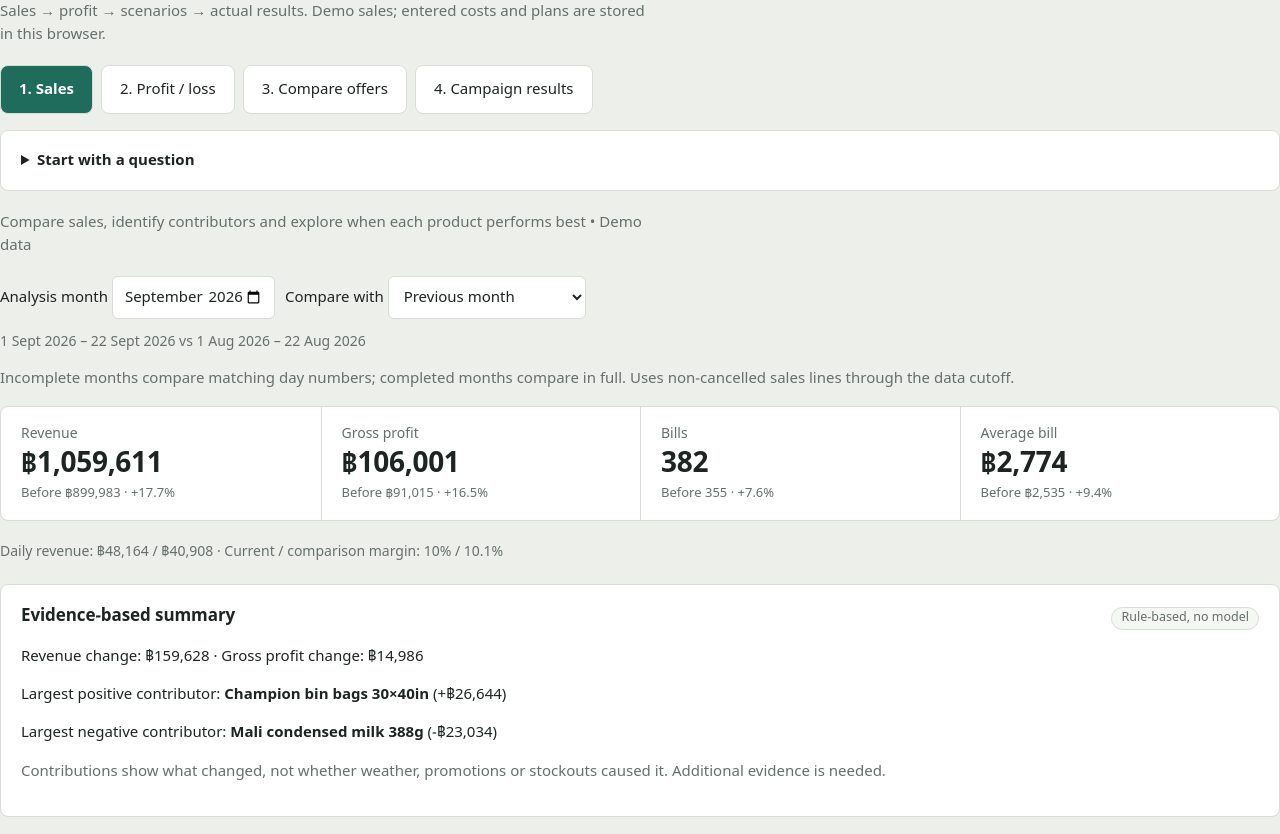
Test case: campaign validation and local persistence preserve user-entered facts
The image size is (1280, 834).
Step 1. Click the tab "4. Campaign results" → x=504, y=89, box [415,64,592,114]
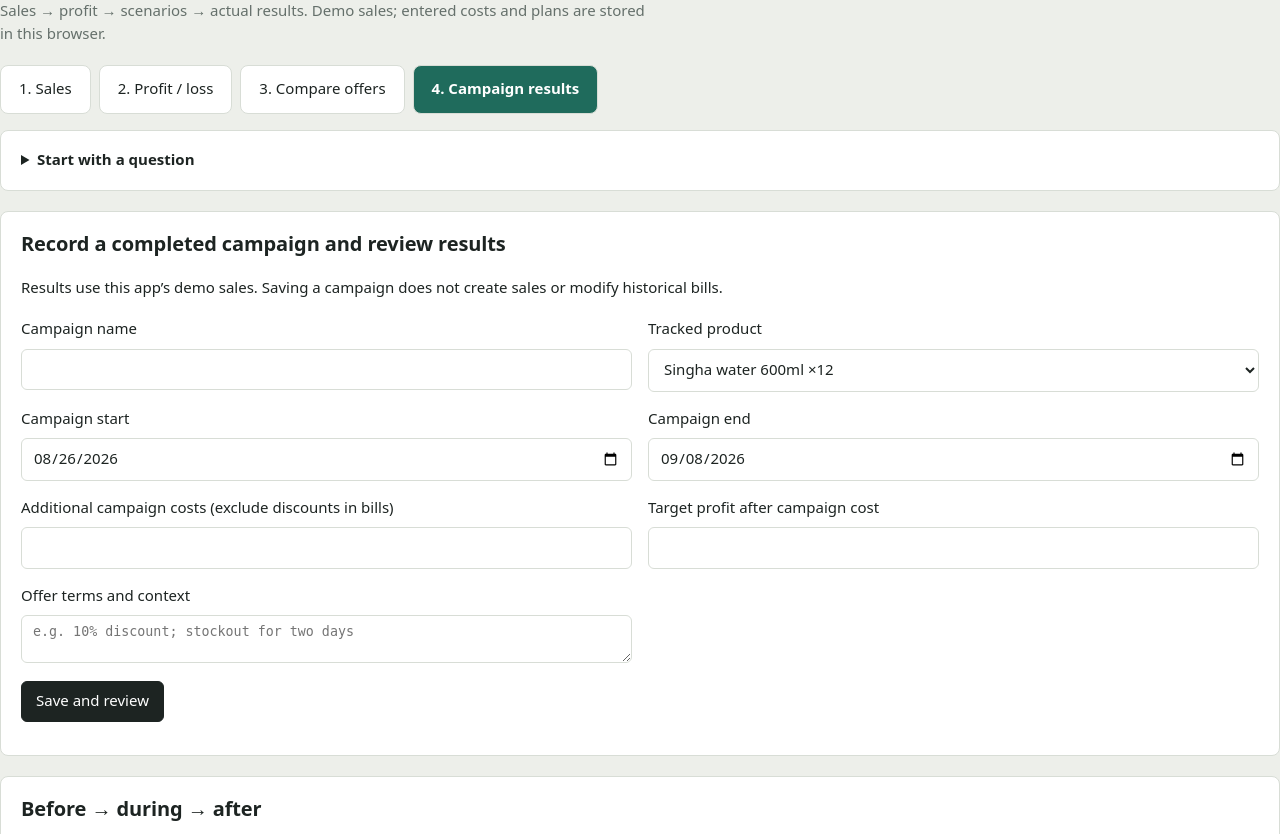
Step 2. Click the button "Save and review" → x=92, y=701, box [21,681,164,722]
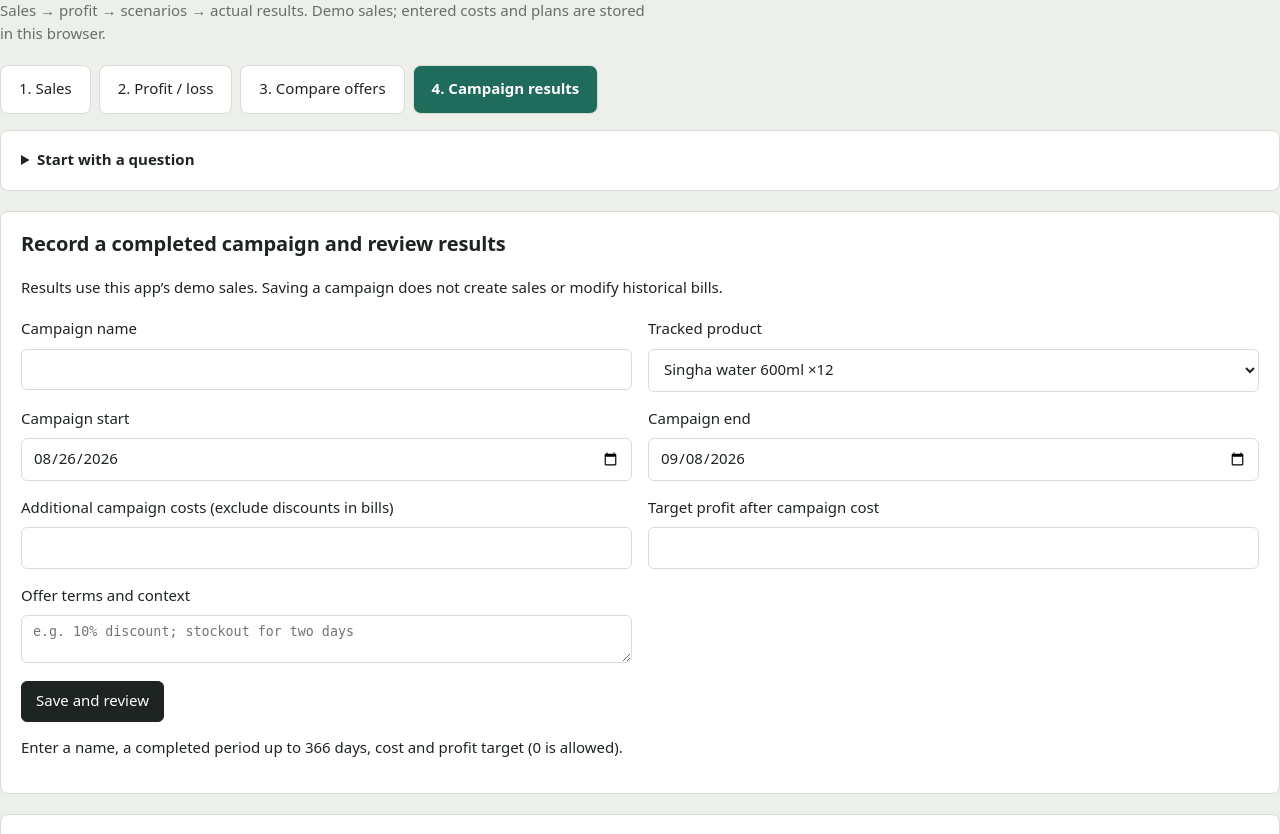
Step 3. Type "Test promotion" into the field labelled "Campaign name" → x=326, y=369, box [21,348,632,390]
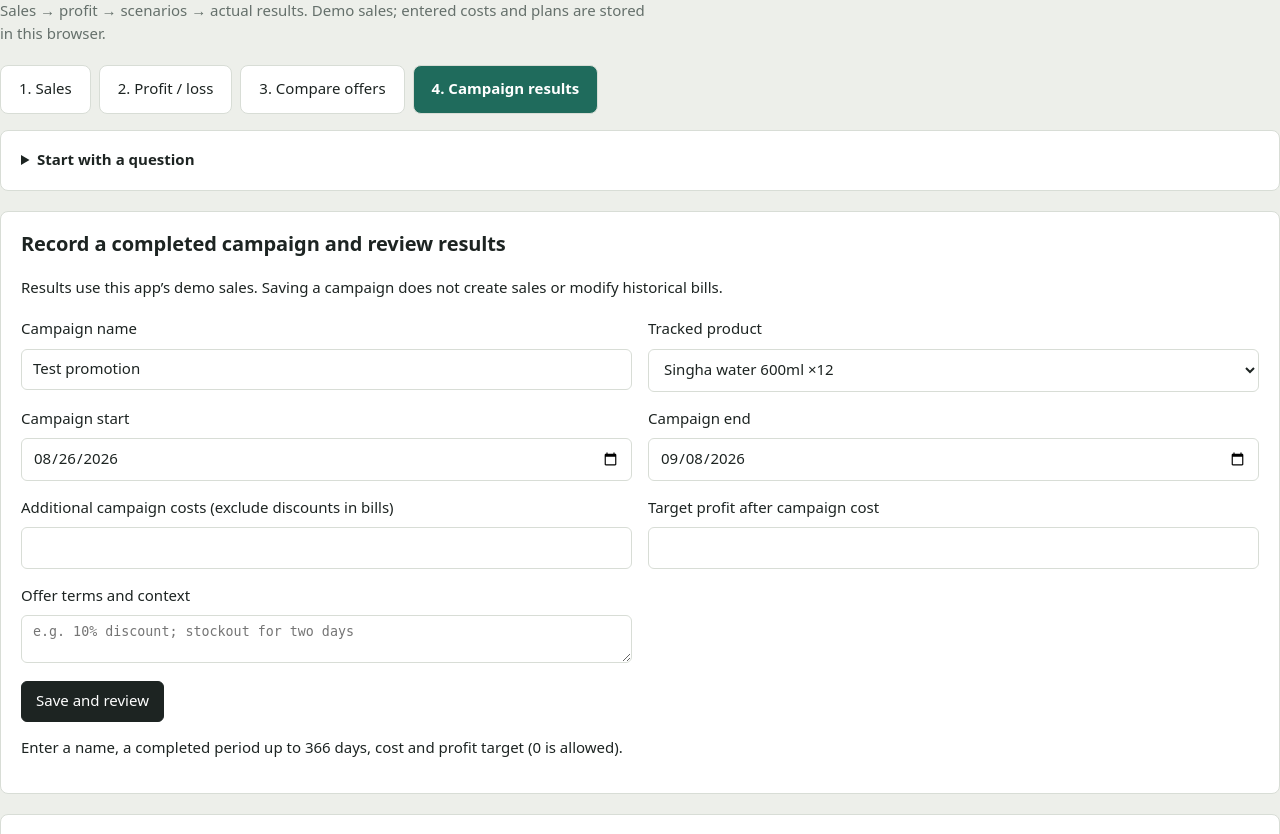
Step 4. Type "100" into the number field labelled "Additional campaign costs (exclude discounts in bills)" → x=326, y=548, box [21,527,632,569]
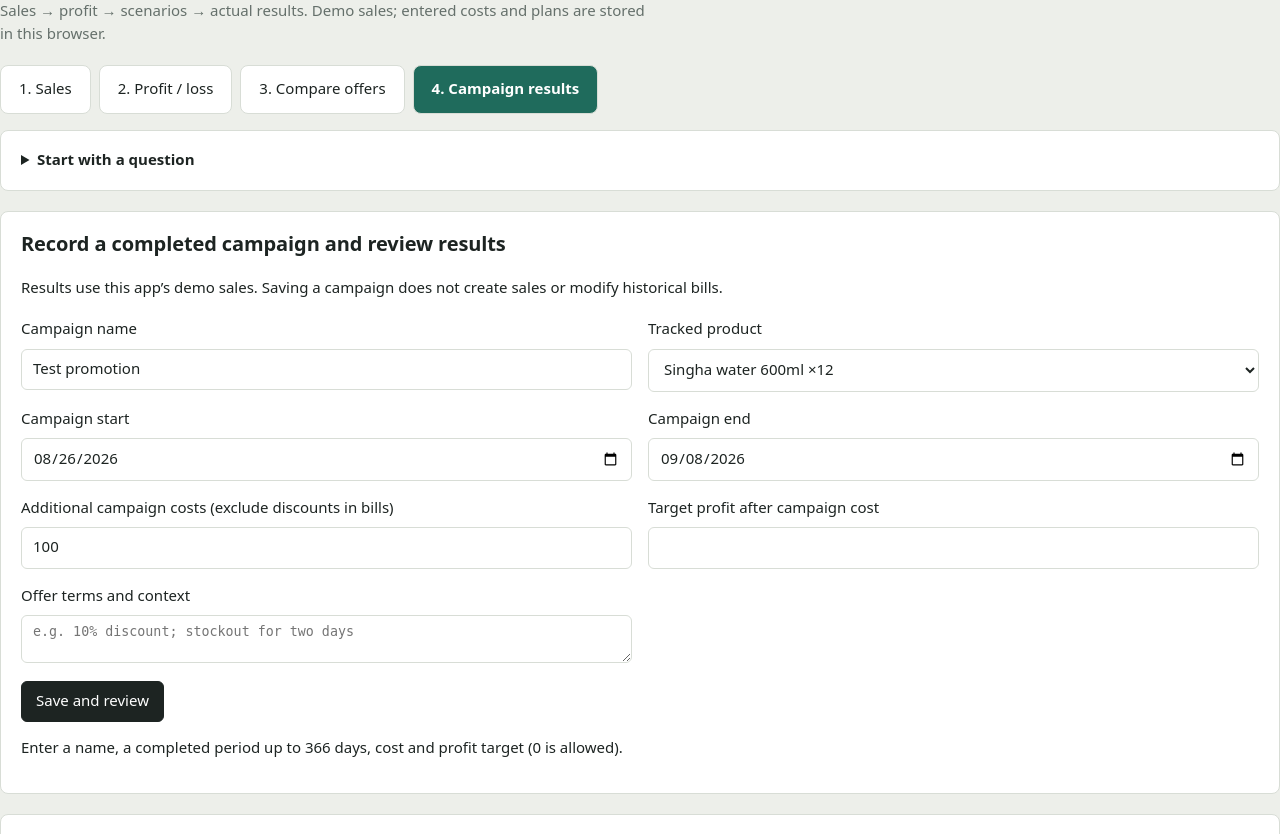
Step 5. Type "500" into the number field labelled "Target profit after campaign cost" → x=954, y=548, box [648,527,1259,569]
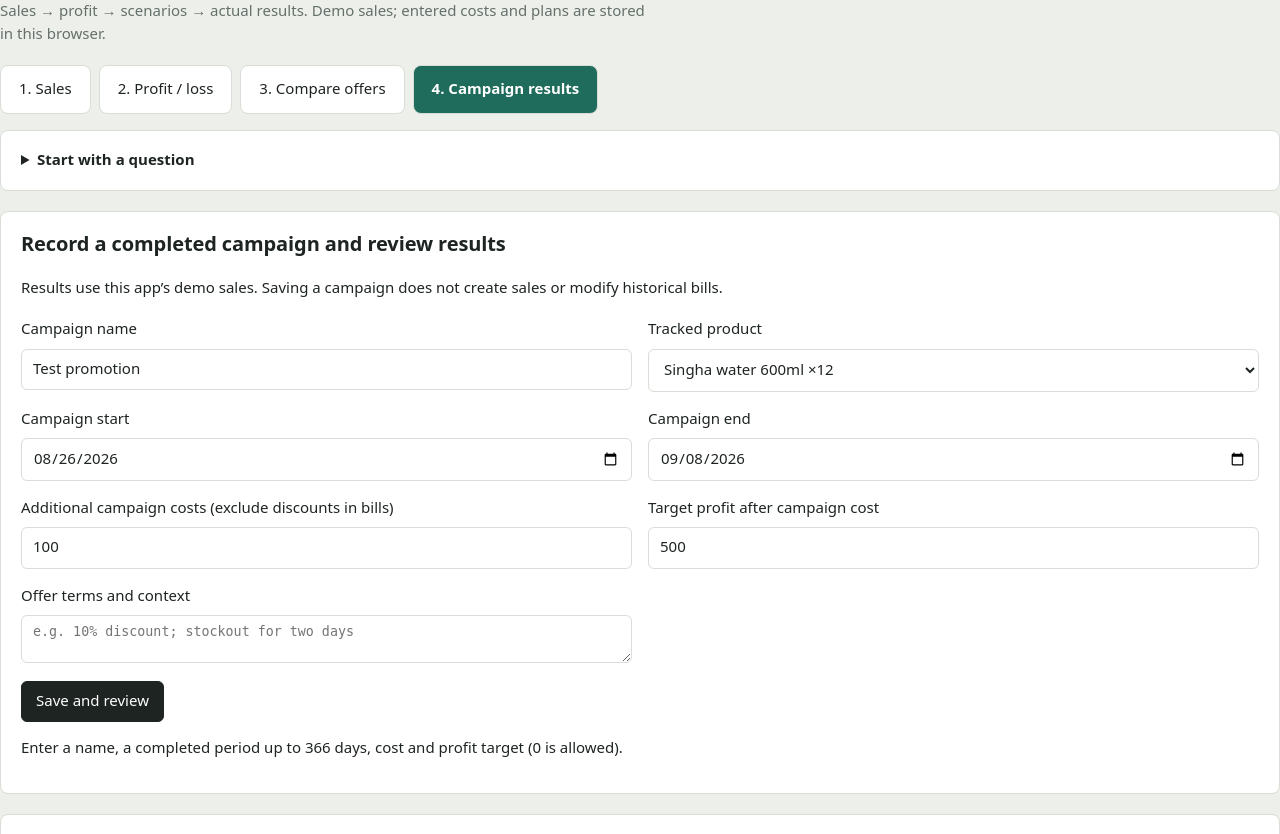
Step 6. Click the button "Save and review" → x=92, y=701, box [21,681,164,722]
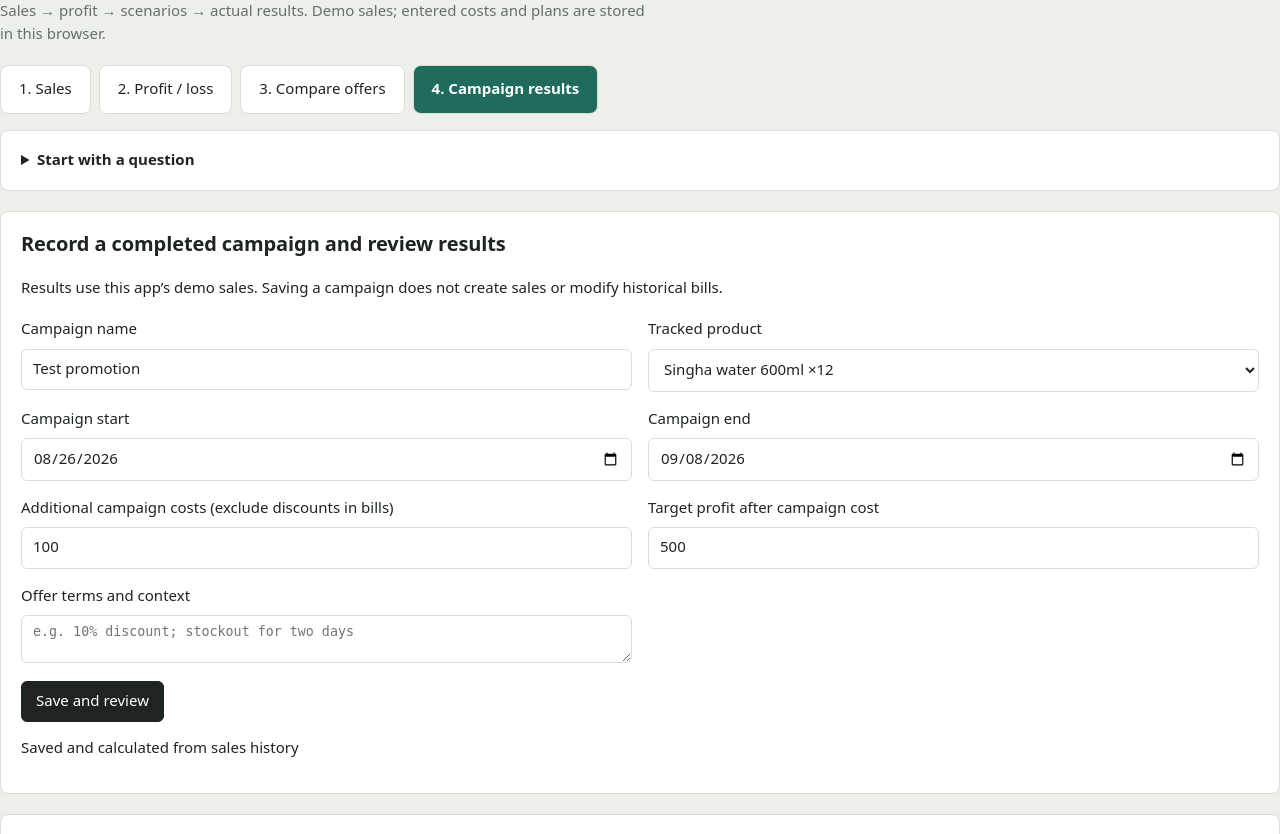
expect the text "Saved and calculated from sales history" is shown: met, box [21,737,299,760]
